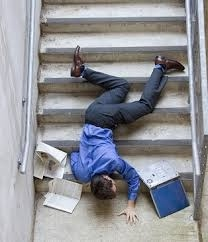fall: (53, 43, 189, 228)
